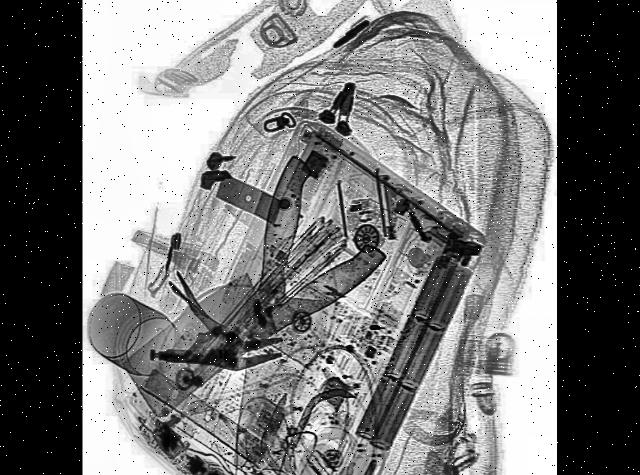Knife: (122, 189, 390, 437), (226, 151, 357, 475)
